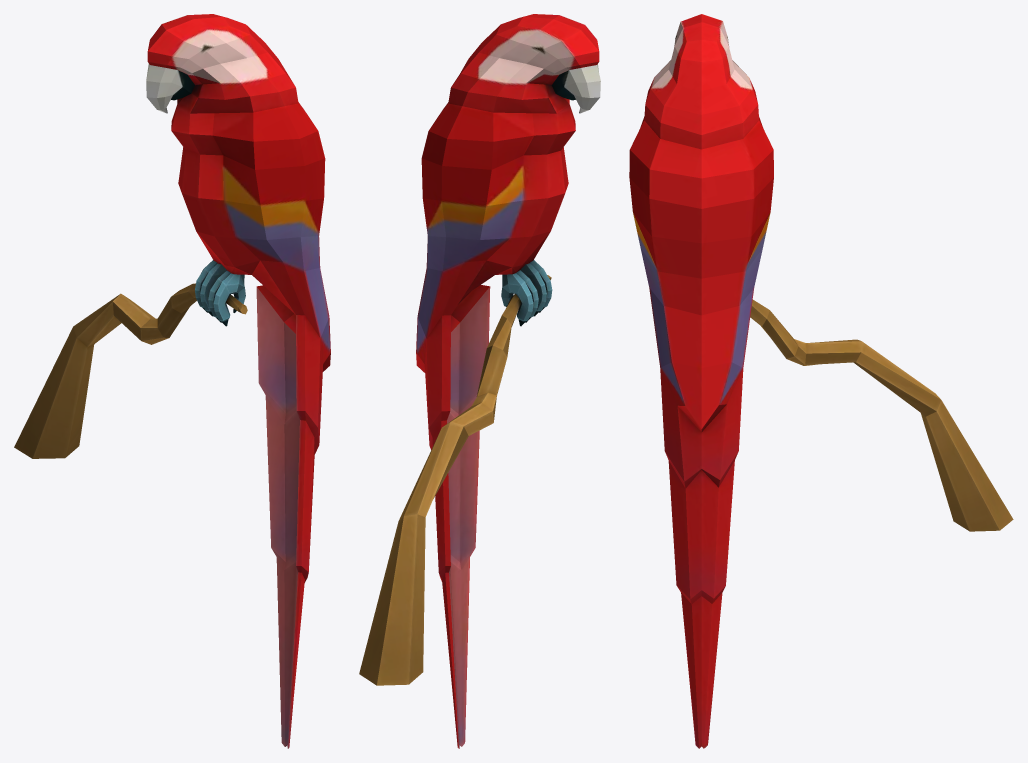
Rendered from 7sfRRUS5F_v.glb.
3 views of the same model, side by side, from view 1: azimuth 30°, elevation 25°; view 2: azimuth 150°, elevation 25°; view 3: azimuth 270°, elevation 25° (orthographic). The views are drawn at different scales.
Visible parts, largest first — view 1: ScarletMacaw_mesh; view 2: ScarletMacaw_mesh; view 3: ScarletMacaw_mesh.
Boxes of the visible parts, x1=… form: ScarletMacaw_mesh: x1=14, y1=14, x2=330, y2=748; ScarletMacaw_mesh: x1=359, y1=14, x2=600, y2=748; ScarletMacaw_mesh: x1=629, y1=14, x2=1013, y2=748.
Size of the model in its own units: 0.2563 by 1 by 0.5081.
1 material, 1 textured.
